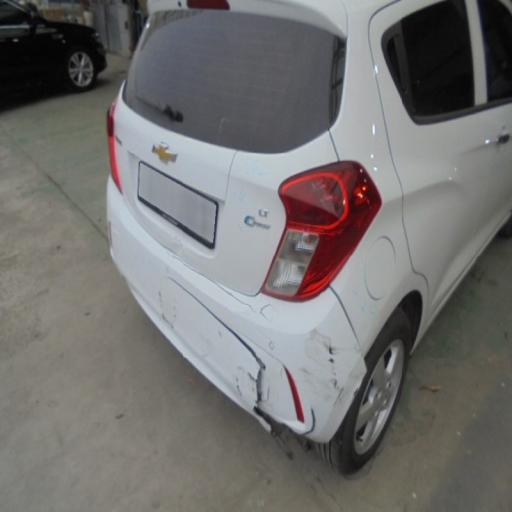scratch: (191, 164, 375, 451)
